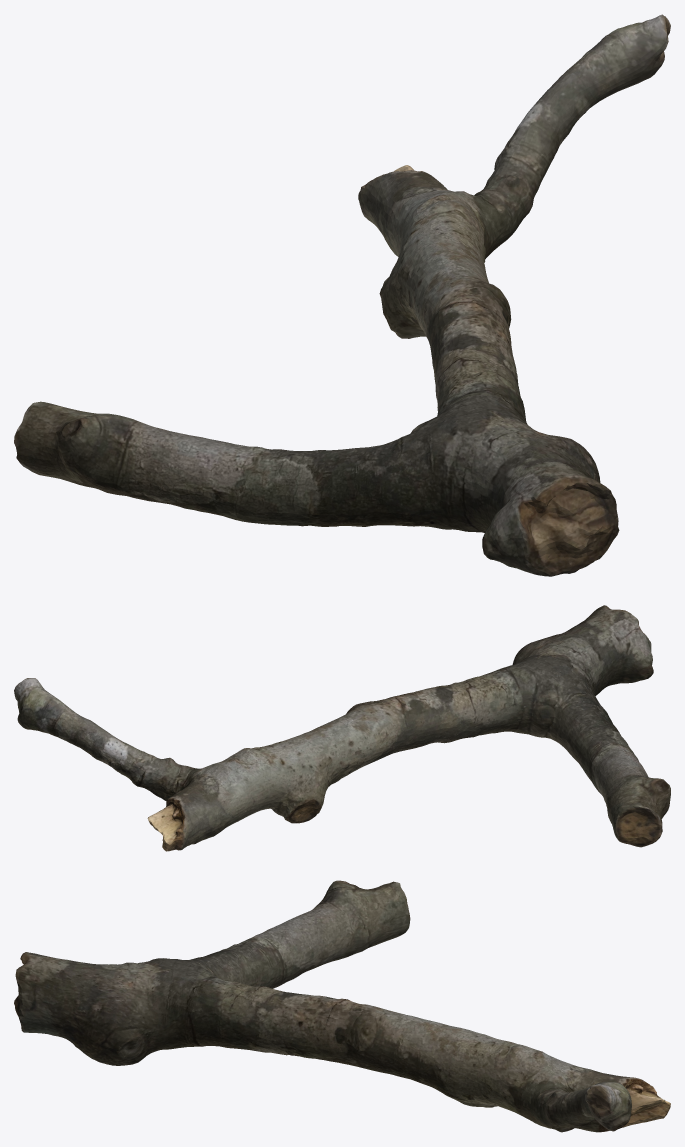
File: metascan_20230423-1615.obj
3 views of the same model, one above another, from view 1: azimuth 30°, elevation 25°; view 2: azimuth 150°, elevation 25°; view 3: azimuth 270°, elevation 25° (orthographic). The views are drawn at different scales.
Parts seen in each view (by area): view 1: mesh_0; view 2: mesh_0; view 3: mesh_0.
Part boxes in pixels (x1,y1,x2,y2): mesh_0: (14,14,670,576); mesh_0: (14,605,670,851); mesh_0: (14,880,670,1132).
Size of the model in its own units: 0.1102 by 0.0242 by 0.1045.
1 material, 1 textured.
